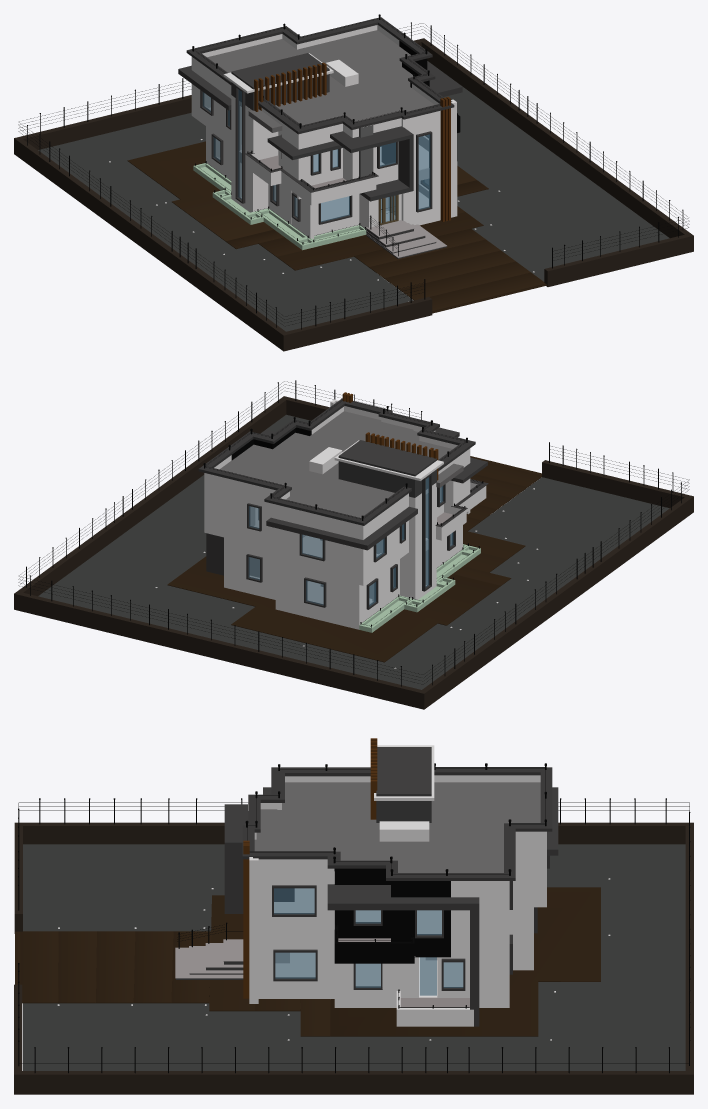
Rendered from final.villa4.glb.
3 renders of one model, top to bottom at view 1: azimuth 30°, elevation 25°; view 2: azimuth 150°, elevation 25°; view 3: azimuth 270°, elevation 25°, orthographic. The views are drawn at different scales.
Visible parts, largest first — view 1: Rectangle007, house, Line055, Line061, Line015, stickes, windows, Box023, Box070, Line018, Box008, Box042 (+6 smaller); view 2: Rectangle007, house, Line055, Line061, Line015, windows, Box023, stickes, Line060, Line059, Line057, Line058 (+2 smaller); view 3: Rectangle007, house, Line061, Line055, Line015, balconie, Line018, windows, stickes, Line014, Object002_Material #24_0, Box072 (+12 smaller).
Part boxes in pixels (bbox=[...]): Rectangle007: bbox=[38, 61, 669, 331]; house: bbox=[178, 17, 462, 238]; Line055: bbox=[14, 38, 693, 351]; Line061: bbox=[127, 141, 547, 313]; Line015: bbox=[207, 30, 434, 132]; stickes: bbox=[254, 62, 450, 221]; windows: bbox=[200, 85, 432, 224]; Box023: bbox=[193, 163, 366, 250]; Box070: bbox=[418, 134, 430, 209]; Line018: bbox=[321, 192, 428, 222]; Box008: bbox=[321, 196, 349, 221]; Box042: bbox=[325, 59, 358, 86]; Rectangle007: bbox=[38, 414, 669, 689]; house: bbox=[198, 398, 487, 629]; Line055: bbox=[14, 396, 693, 709]; Line061: bbox=[167, 456, 541, 662]; Line015: bbox=[219, 411, 463, 517]; windows: bbox=[246, 473, 455, 609]; Box023: bbox=[359, 544, 480, 632]; stickes: bbox=[342, 392, 438, 480]; Line060: bbox=[19, 381, 689, 674]; Line059: bbox=[18, 384, 689, 677]; Line057: bbox=[18, 391, 689, 684]; Line058: bbox=[18, 387, 689, 681]; Rectangle007: bbox=[23, 844, 685, 1070]; house: bbox=[224, 747, 558, 1026]; Line061: bbox=[15, 887, 600, 1036]; Line055: bbox=[14, 822, 693, 1094]; Line015: bbox=[254, 782, 540, 872]; balconie: bbox=[334, 868, 450, 963]; Line018: bbox=[275, 953, 462, 995]; windows: bbox=[272, 855, 549, 990]; stickes: bbox=[243, 738, 377, 998]; Line014: bbox=[274, 871, 441, 933]; Object002_Material #24_0: bbox=[396, 991, 473, 1026]; Box072: bbox=[275, 952, 315, 978].
Bounding box in the file's own units: 26.92 × 8.7 × 30.69.
